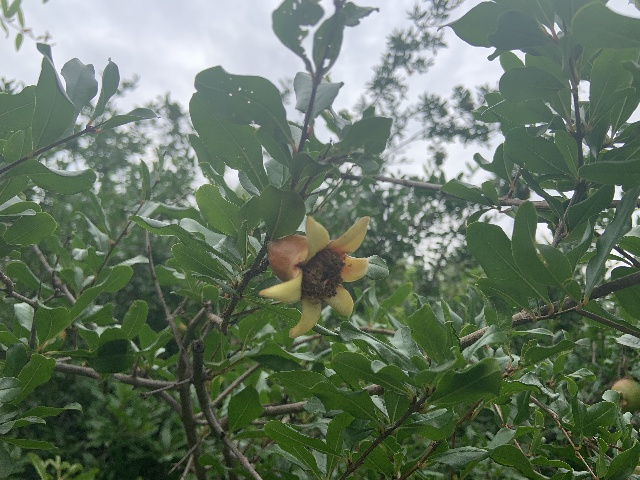early-fruit: (258, 214, 370, 338)
mid-growth: (610, 379, 640, 414)
